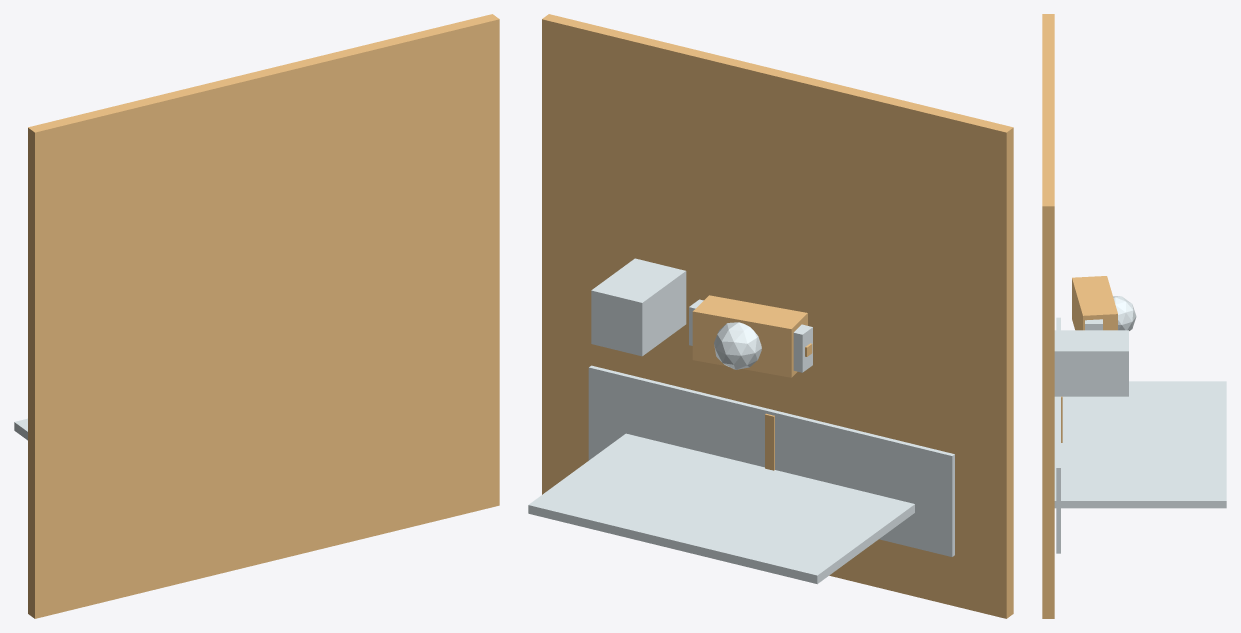
The model's file is tennis-rally-kit.glb.
The picture shows the model from 3 angles, left to right: view 1: azimuth 30°, elevation 25°; view 2: azimuth 150°, elevation 25°; view 3: azimuth 270°, elevation 25°; orthographic projection. The views are drawn at different scales.
Parts seen in each view (by area): view 1: ENVIRONMENT_GROUND; view 2: ENVIRONMENT_GROUND, ENVIRONMENT_GATE, PROFILE_ENVIRONMENT_DETAIL, PROFILE_OBSTACLE_DETAIL, PLAYER_BODY, PLAYER_CORE, PROFILE_PLAYER_DETAIL; view 3: ENVIRONMENT_GATE, ENVIRONMENT_GROUND, PROFILE_OBSTACLE_DETAIL, PLAYER_BODY, PROFILE_ENVIRONMENT_DETAIL, PLAYER_CORE.
Boxes of the visible parts, <box> form: ENVIRONMENT_GROUND: <box>28,14,499,618</box>; ENVIRONMENT_GROUND: <box>542,14,1013,618</box>; ENVIRONMENT_GATE: <box>528,433,914,584</box>; PROFILE_ENVIRONMENT_DETAIL: <box>588,365,954,556</box>; PROFILE_OBSTACLE_DETAIL: <box>591,258,686,356</box>; PLAYER_BODY: <box>692,295,807,377</box>; PLAYER_CORE: <box>714,322,761,369</box>; PROFILE_PLAYER_DETAIL: <box>689,299,812,372</box>; ENVIRONMENT_GATE: <box>1054,381,1226,508</box>; ENVIRONMENT_GROUND: <box>1042,14,1054,618</box>; PROFILE_OBSTACLE_DETAIL: <box>1054,330,1128,396</box>; PLAYER_BODY: <box>1072,276,1117,330</box>; PROFILE_ENVIRONMENT_DETAIL: <box>1056,317,1060,553</box>; PLAYER_CORE: <box>1113,296,1136,330</box>.
Size of what is drawn, in the model's own units: 9 by 9 by 3.64.
